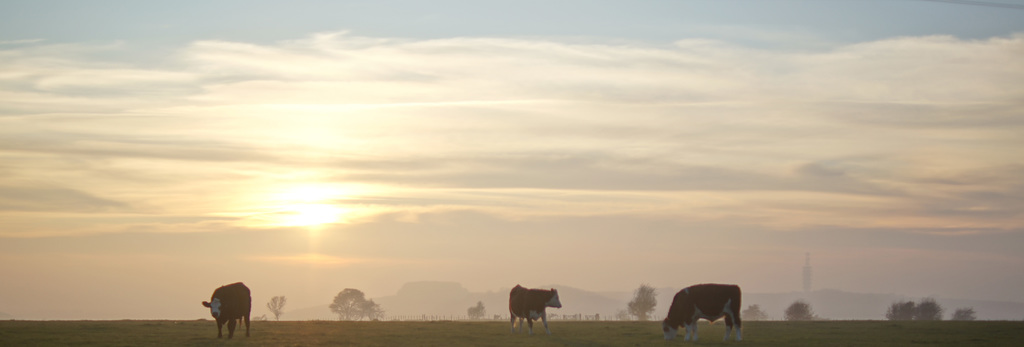Tree: (327, 282, 392, 325), (628, 281, 656, 323), (914, 295, 942, 323), (778, 297, 810, 318), (267, 291, 286, 325), (888, 296, 911, 320), (953, 307, 978, 320)
